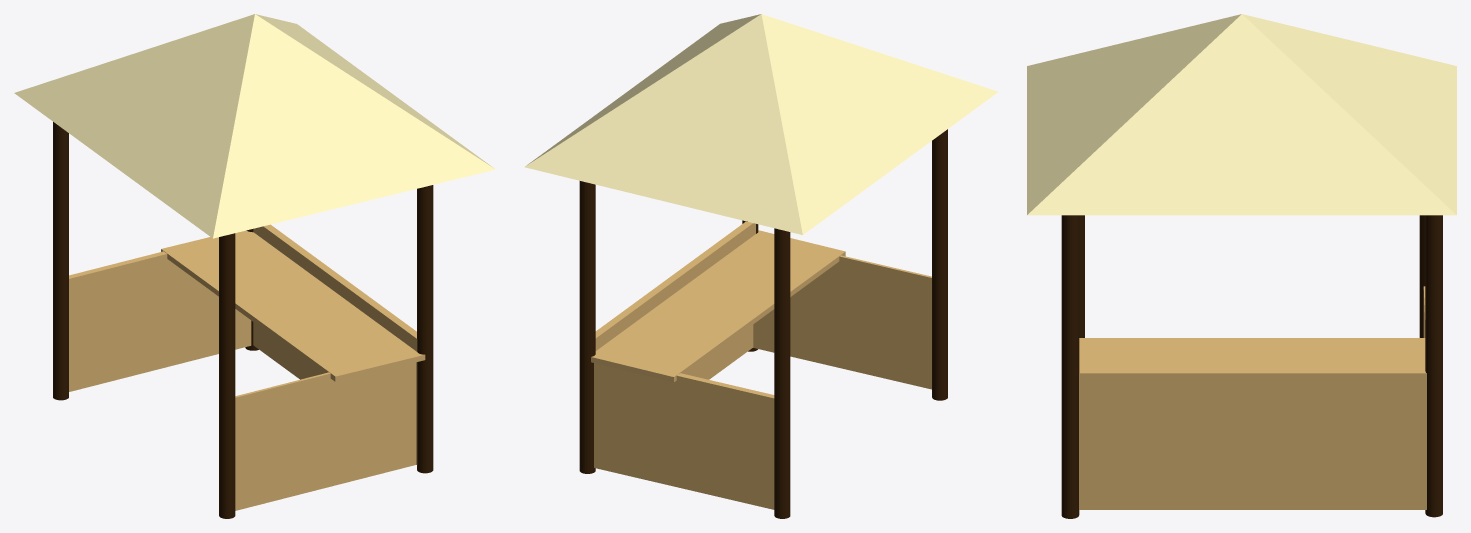
File: Stand.fbx
3 views of the same model, side by side, from view 1: azimuth 30°, elevation 25°; view 2: azimuth 150°, elevation 25°; view 3: azimuth 270°, elevation 25° (orthographic). The views are drawn at different scales.
Visible parts, largest first — view 1: Cone, Cube.001, Cube.002, Cube.003, Cube, Cylinder.001, Cylinder, Cylinder.002; view 2: Cone, Cube.002, Cube.001, Cube.003, Cylinder.002, Cylinder.003, Cube, Cylinder.001; view 3: Cone, Cube, Cube.003, Cylinder, Cylinder.003, Cylinder.002, Cylinder.001.
Boxes of the visible parts, box(x1,y1,x2,y2) form: Cone: box(14, 14, 495, 238); Cube.001: box(235, 362, 416, 510); Cube.002: box(69, 251, 251, 391); Cube.003: box(161, 230, 425, 381); Cube: box(253, 224, 417, 464); Cylinder.001: box(219, 233, 235, 518); Cylinder: box(417, 185, 433, 473); Cylinder.002: box(53, 122, 68, 400); Cone: box(524, 14, 998, 234); Cube.002: box(594, 363, 774, 509); Cube.001: box(753, 255, 931, 389); Cube.003: box(591, 230, 845, 382); Cylinder.002: box(774, 228, 790, 518); Cylinder.003: box(579, 181, 595, 473); Cube: box(595, 221, 755, 379); Cylinder.001: box(932, 129, 947, 400); Cone: box(1027, 14, 1456, 215); Cube: box(1079, 369, 1426, 509); Cube.003: box(1079, 338, 1425, 369); Cylinder: box(1061, 215, 1079, 518); Cylinder.003: box(1425, 215, 1442, 517); Cylinder.002: box(1419, 215, 1425, 337); Cylinder.001: box(1079, 215, 1084, 337).
Bounding box in the file's own units: 200 × 284 × 244.
